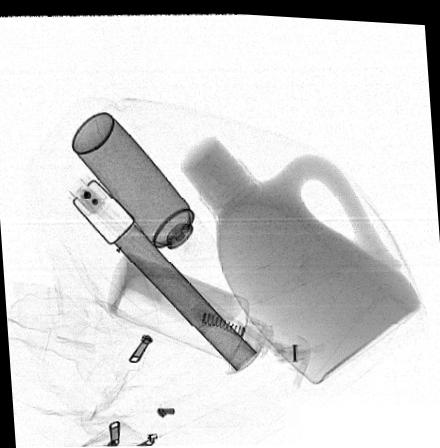Sprayer: (71, 109, 216, 272)
